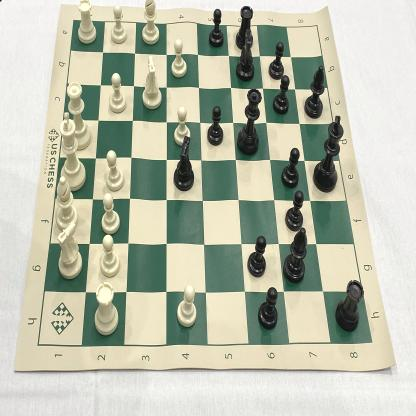black-bishop: (282, 228, 308, 284), (304, 63, 327, 120)
black-king: (314, 112, 344, 195)
black-knight: (172, 134, 195, 192), (234, 29, 257, 82)
black-pawn: (246, 234, 268, 280), (258, 285, 278, 332), (284, 190, 306, 231), (272, 75, 290, 117), (282, 146, 300, 188), (206, 7, 224, 48), (267, 40, 285, 80), (206, 106, 224, 146)
black-queen: (238, 87, 261, 157)
black-rook: (333, 274, 364, 335), (234, 2, 255, 50)
white-bishop: (53, 175, 78, 230), (140, 0, 161, 45)
white-king: (57, 111, 87, 193)
white-knight: (54, 219, 83, 278), (140, 55, 162, 110)
white-pawn: (175, 282, 197, 326), (99, 233, 120, 278), (168, 36, 188, 80), (104, 150, 125, 190), (100, 194, 121, 234), (172, 105, 191, 147), (108, 71, 127, 113), (110, 2, 127, 46)
white-queen: (63, 80, 93, 152)
white-rook: (92, 280, 120, 338), (75, 0, 99, 46)
